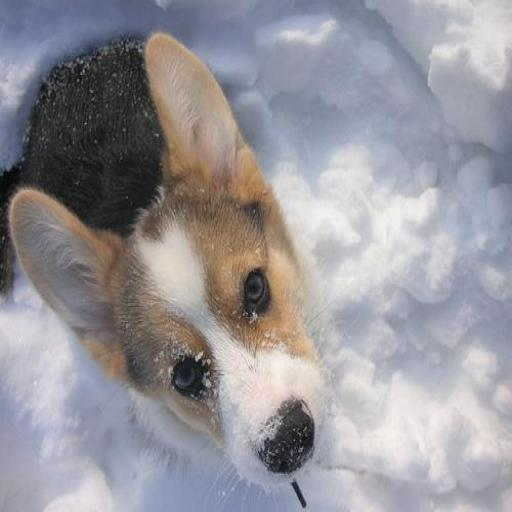dog_face: (24, 67, 333, 486)
